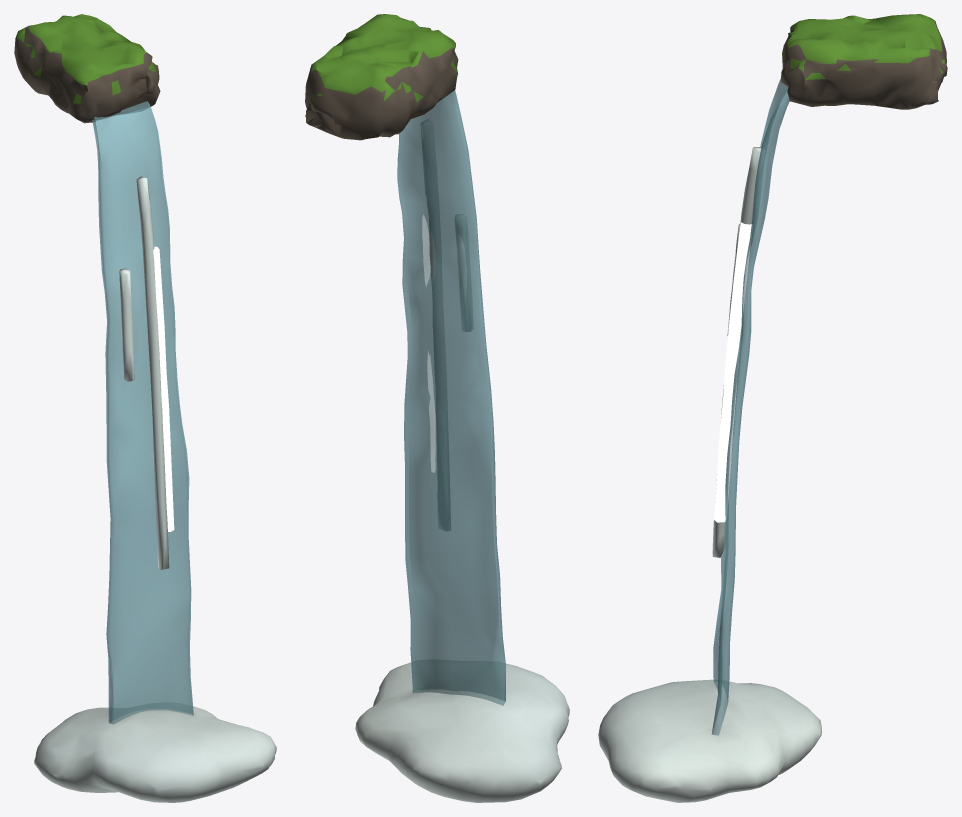
The model's file is glade_dew_trickle.glb.
3 renders of one model, left to right at view 1: azimuth 30°, elevation 25°; view 2: azimuth 150°, elevation 25°; view 3: azimuth 270°, elevation 25°, orthographic. The views are drawn at different scales.
Parts seen in each view (by area): view 1: glade_dew_trickle; view 2: glade_dew_trickle; view 3: glade_dew_trickle.
Boxes of the visible parts, left/top/right/bottom form: glade_dew_trickle: left=14, top=14, right=276, bottom=802; glade_dew_trickle: left=305, top=14, right=569, bottom=802; glade_dew_trickle: left=598, top=14, right=947, bottom=802.
Size of the model in its own units: 2.54 by 9.02 by 3.79.
